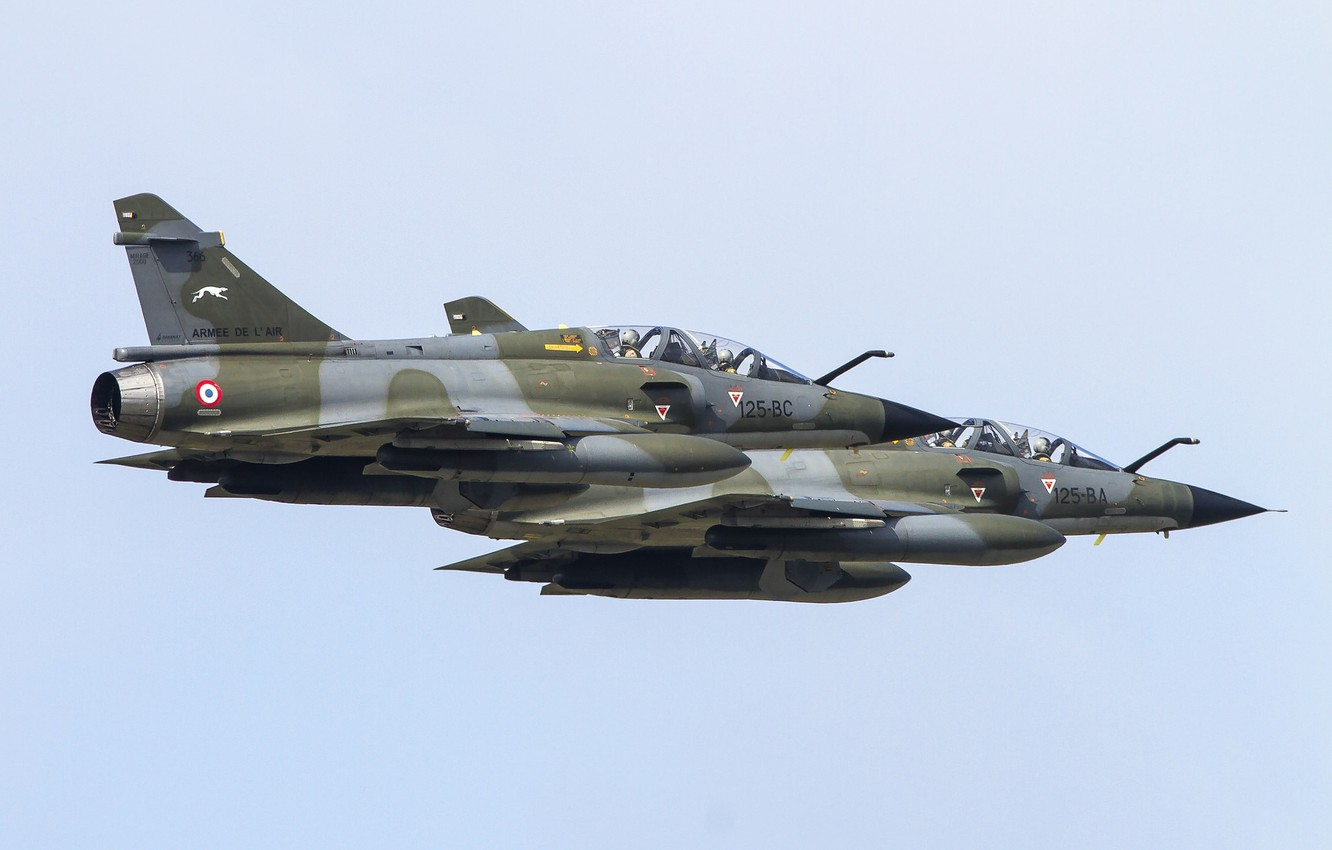Mirage2000: (90, 192, 985, 515), (429, 296, 1288, 604)
